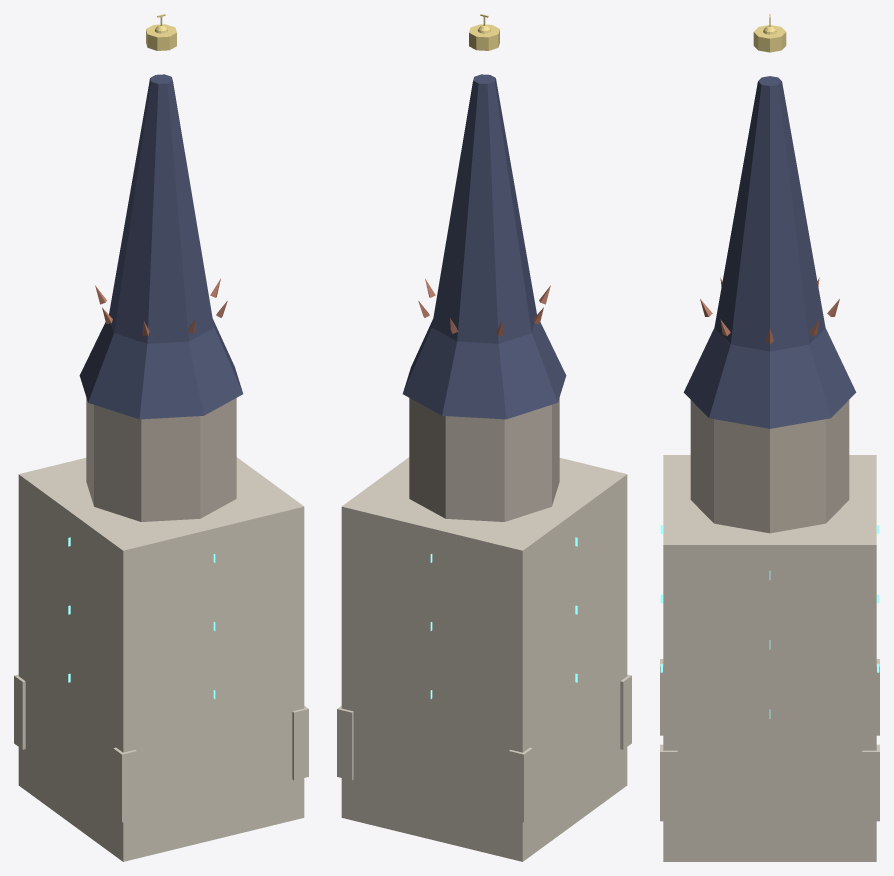
Rendered from church_spire_v16.glb.
The picture shows the model from 3 angles, left to right: view 1: azimuth 30°, elevation 25°; view 2: azimuth 150°, elevation 25°; view 3: azimuth 270°, elevation 25°; orthographic projection.
Parts seen in each view (by area): view 1: Cube, Cone.001, Cylinder, Cone, Cube.001, Cube.002, Cube.003, Cylinder.001; view 2: Cube, Cone.001, Cylinder, Cone, Cube.003, Cube.004, Cube.001, Cylinder.001; view 3: Cube, Cone.001, Cylinder, Cone, Cube.002, Cube.004, Cylinder.001.
Boxes of the visible parts, x1,y1,x2,y2 form: Cube: (18,457,304,861); Cone.001: (109,74,213,343); Cylinder: (86,398,236,521); Cone: (79,319,243,419); Cube.001: (113,747,136,822); Cube.002: (292,706,308,780); Cube.003: (14,674,25,749); Cylinder.001: (146,24,176,50); Cube: (341,457,627,861); Cone.001: (432,74,536,343); Cylinder: (409,398,559,521); Cone: (402,319,566,419); Cube.003: (509,747,532,822); Cube.004: (337,706,353,780); Cube.001: (620,674,631,749); Cylinder.001: (469,24,499,50); Cube: (663,455,876,861); Cone.001: (714,76,825,351); Cylinder: (690,400,849,533); Cone: (683,328,856,428); Cube.002: (660,744,677,821); Cube.004: (862,744,879,821); Cylinder.001: (753,25,786,52).
Size of the model in its own units: 4.02 by 16.17 by 4.02.
